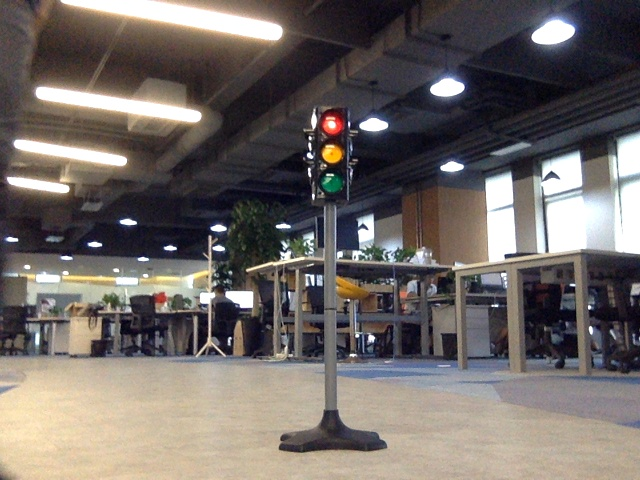red: (316, 114, 346, 197)
